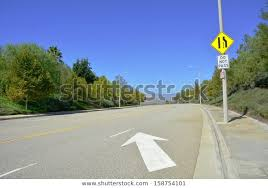doNotPass: (215, 53, 231, 69)
laneEnds: (209, 31, 236, 53)
